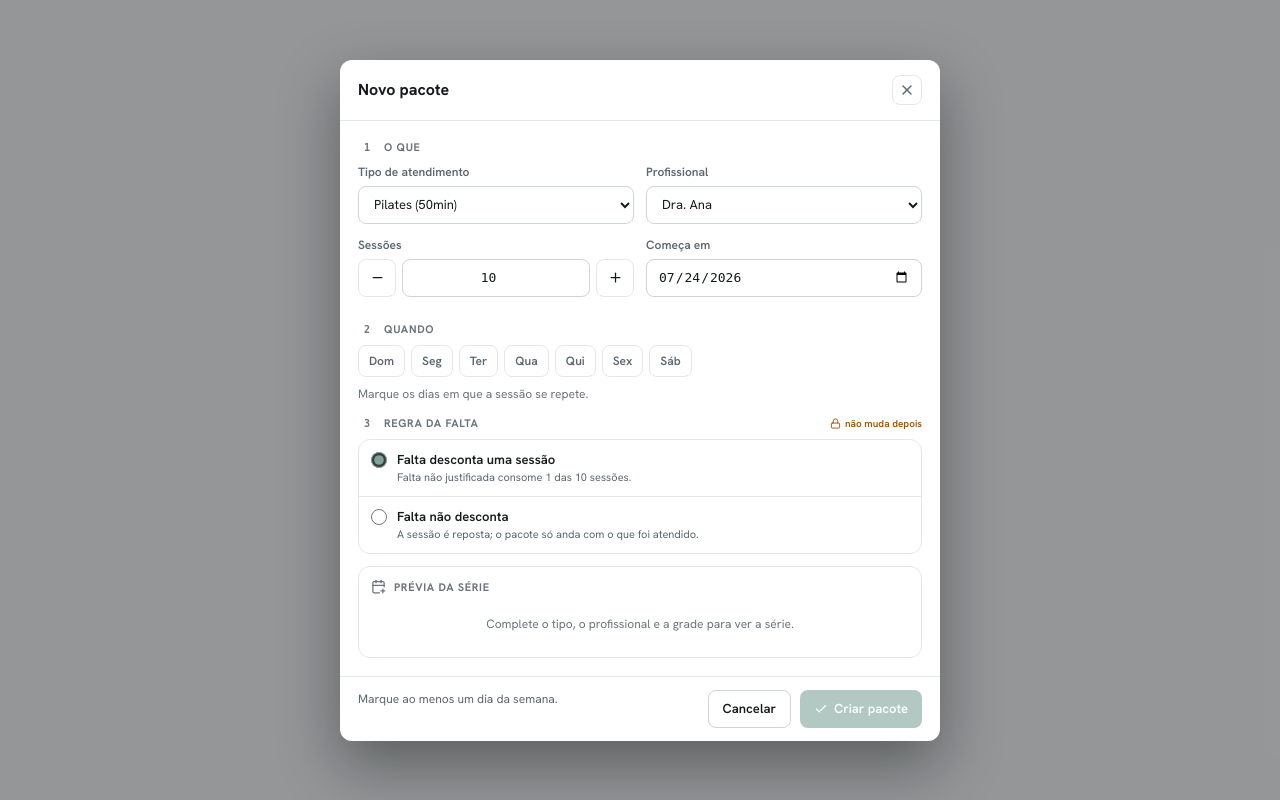
Scenario: PackageCreateModal › o stepper soma e subtrai sessões
The image size is (1280, 800).
Click the button named "mais uma sessão". click: coordinates (615, 278)
box: left=596, top=258, right=634, bottom=296
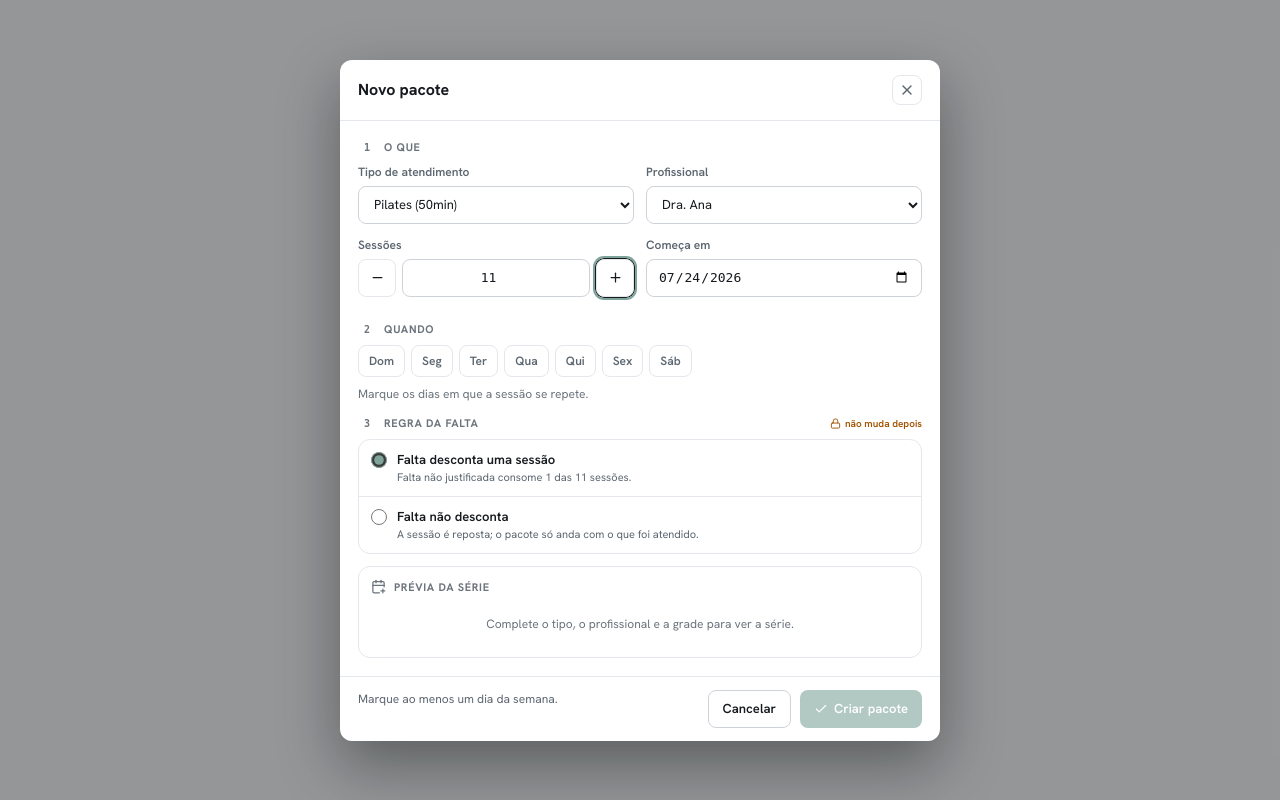
Expected: the number field labelled "Sessões" holds "11", left=402, top=258, right=590, bottom=296
Click the button named "uma sessão a menos". click: coordinates (377, 278)
box: left=358, top=258, right=396, bottom=296
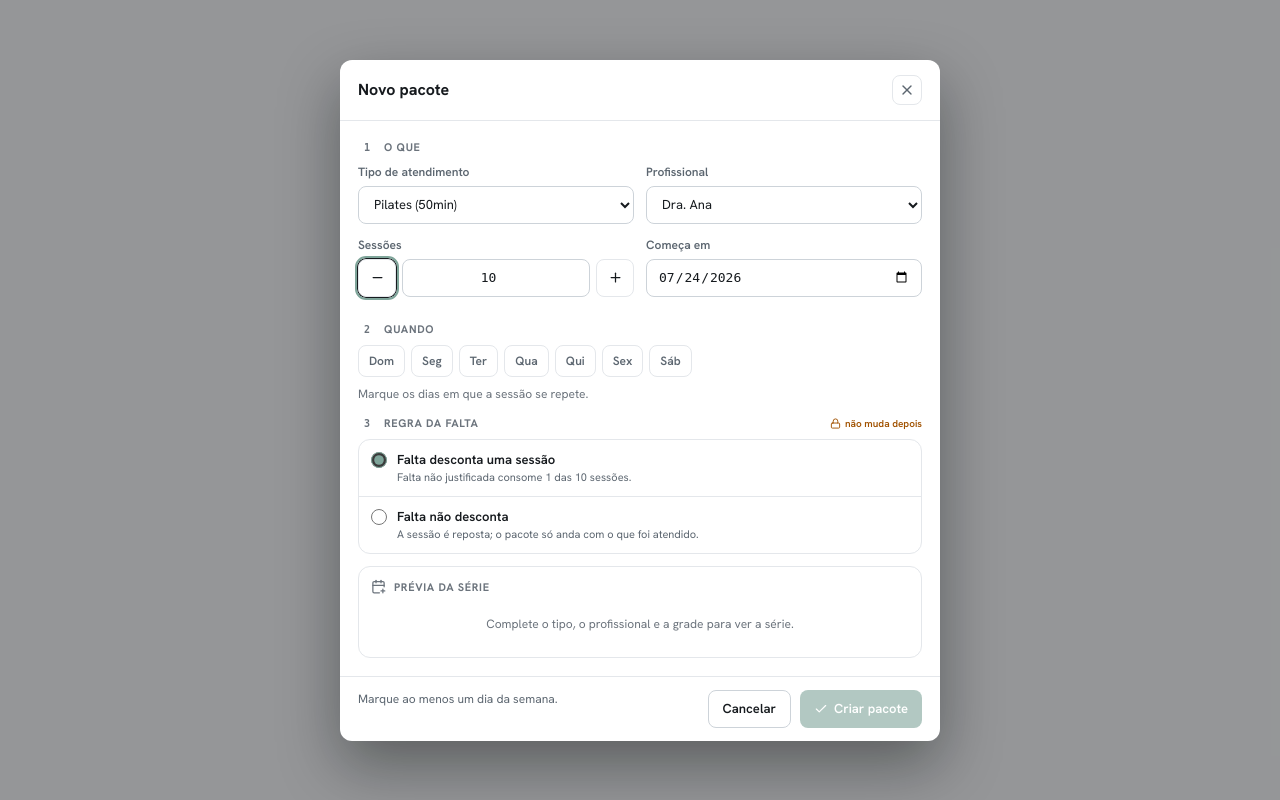
Expected: the number field labelled "Sessões" holds "10", left=402, top=258, right=590, bottom=296
